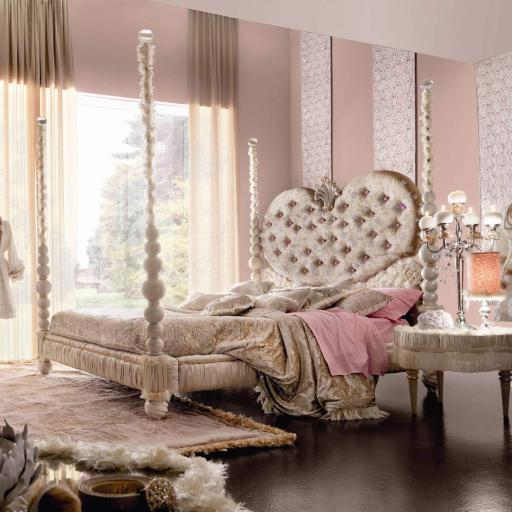bed: (35, 39, 440, 421)
